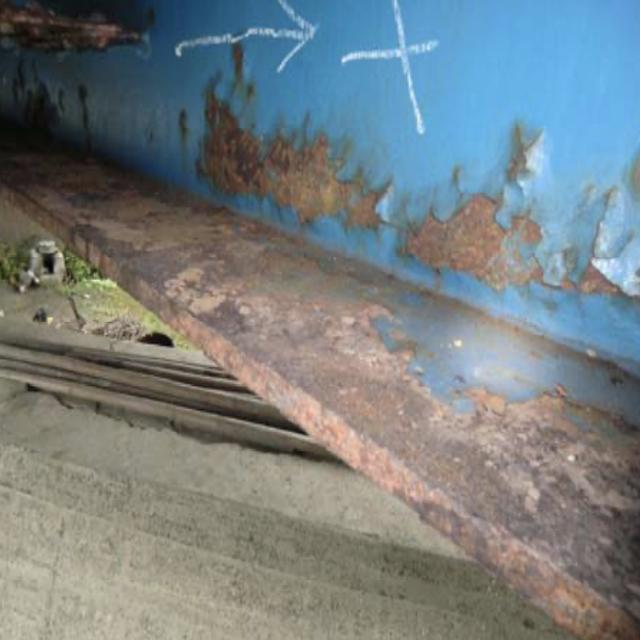corrosion: (22, 48, 637, 623)
